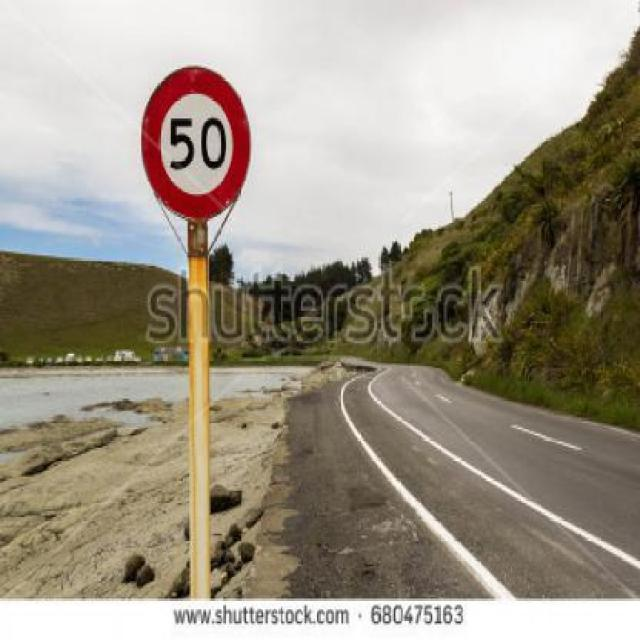Speed limit 50: (136, 63, 255, 226)
